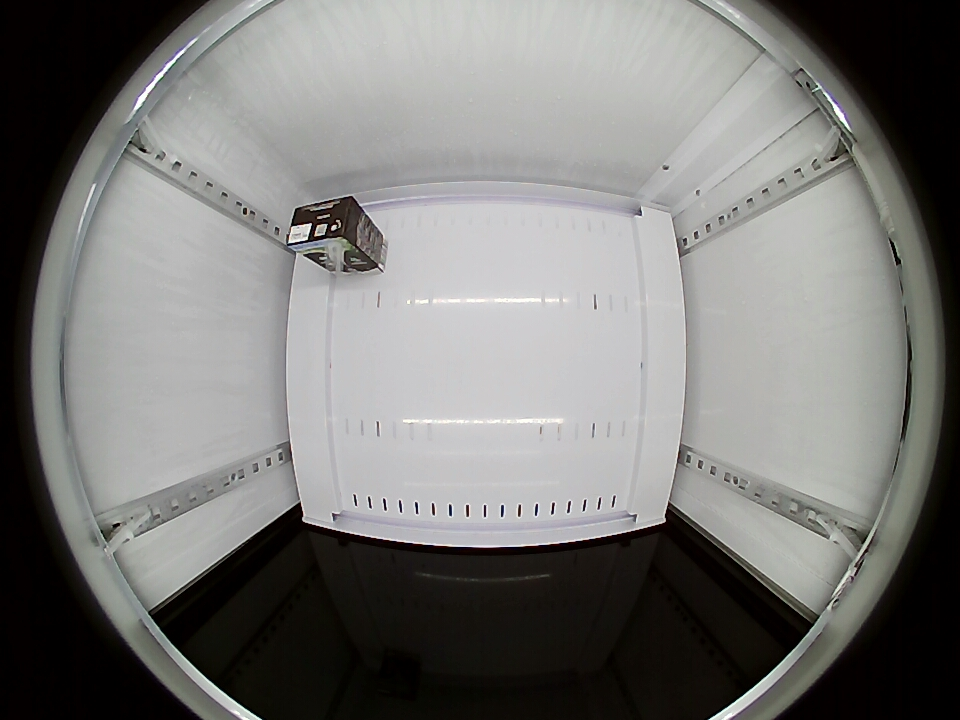weitanai2: (286, 196, 364, 259)
